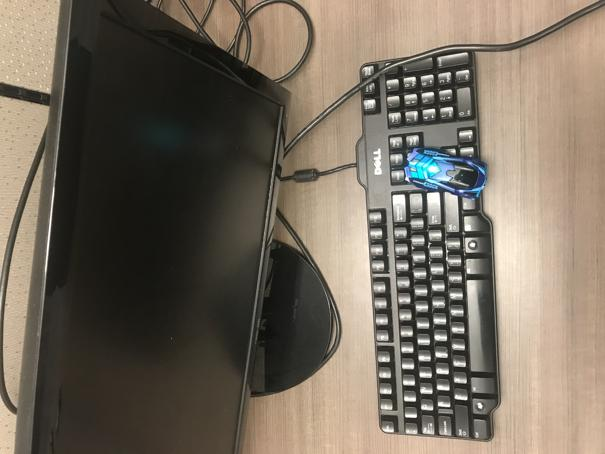Shock: (403, 145, 489, 199)
